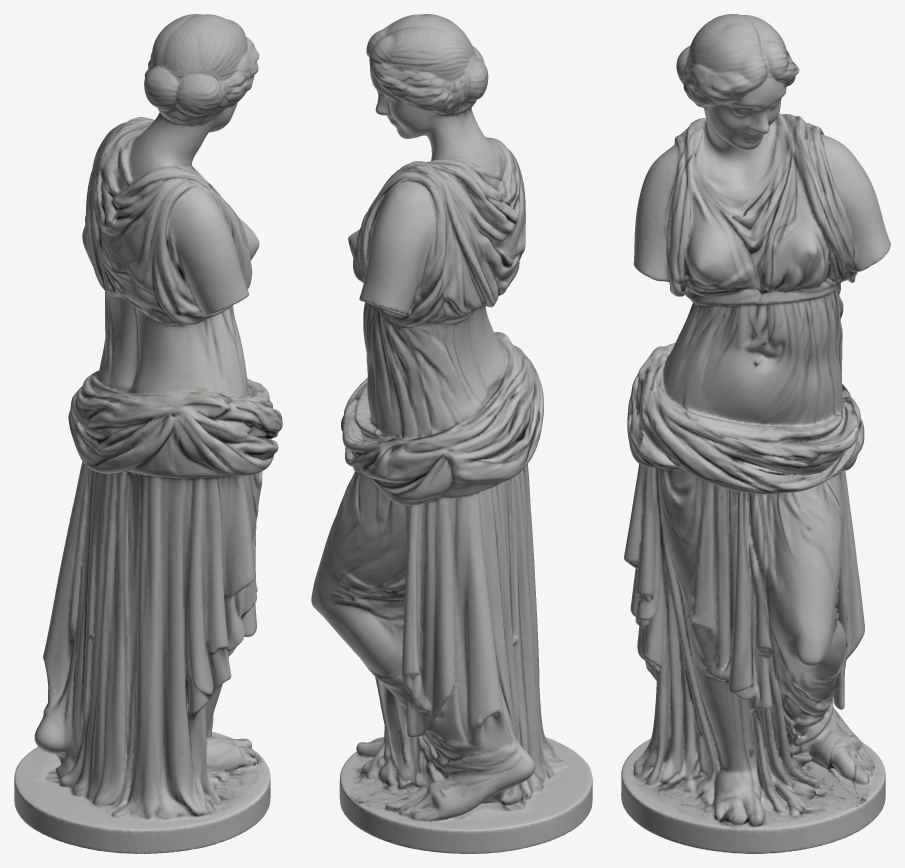
File: woman-statue.glb
3 views of the same model, side by side, from view 1: azimuth 30°, elevation 25°; view 2: azimuth 150°, elevation 25°; view 3: azimuth 270°, elevation 25° (orthographic). The views are drawn at different scales.
Parts seen in each view (by area): view 1: tripo_node_e7aa088a-20e7-4046-b67d-f2b283b2e0c4; view 2: tripo_node_e7aa088a-20e7-4046-b67d-f2b283b2e0c4; view 3: tripo_node_e7aa088a-20e7-4046-b67d-f2b283b2e0c4.
Boxes of the visible parts, box(x1,y1,x2,y2) form: tripo_node_e7aa088a-20e7-4046-b67d-f2b283b2e0c4: box(14, 14, 282, 853); tripo_node_e7aa088a-20e7-4046-b67d-f2b283b2e0c4: box(311, 14, 592, 853); tripo_node_e7aa088a-20e7-4046-b67d-f2b283b2e0c4: box(621, 14, 890, 853).
Size of the model in its own units: 0.3235 by 1 by 0.304.
1 material, 1 textured.
